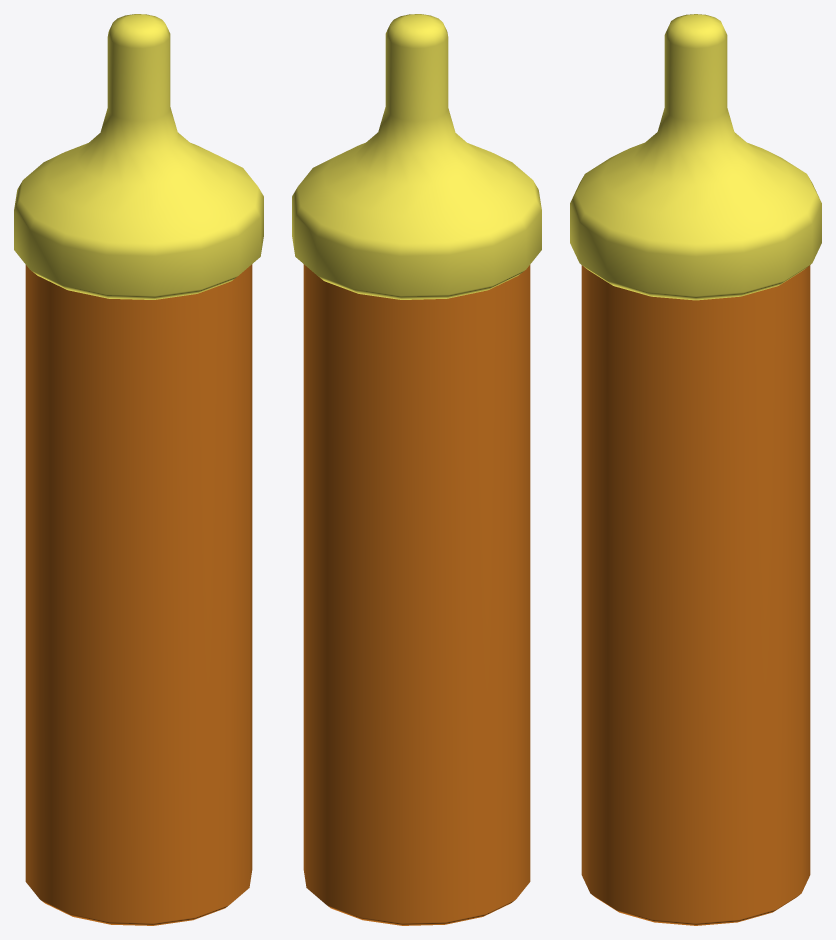
The model's file is Mustard.fbx.
The picture shows the model from 3 angles, left to right: view 1: azimuth 30°, elevation 25°; view 2: azimuth 150°, elevation 25°; view 3: azimuth 270°, elevation 25°; orthographic projection.
Visible parts, largest first — view 1: Mustard; view 2: Mustard; view 3: Mustard.
Part boxes in pixels (x1,y1,x2,y2): Mustard: [14, 14, 263, 925]; Mustard: [292, 14, 541, 925]; Mustard: [570, 14, 821, 925].
Bounding box in the file's own units: 7.62 × 28.64 × 7.62.
